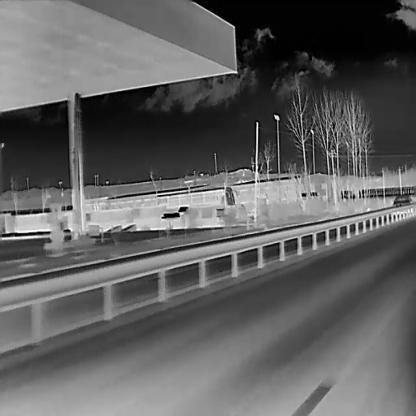car: (153, 184, 238, 208), (391, 193, 414, 214)
